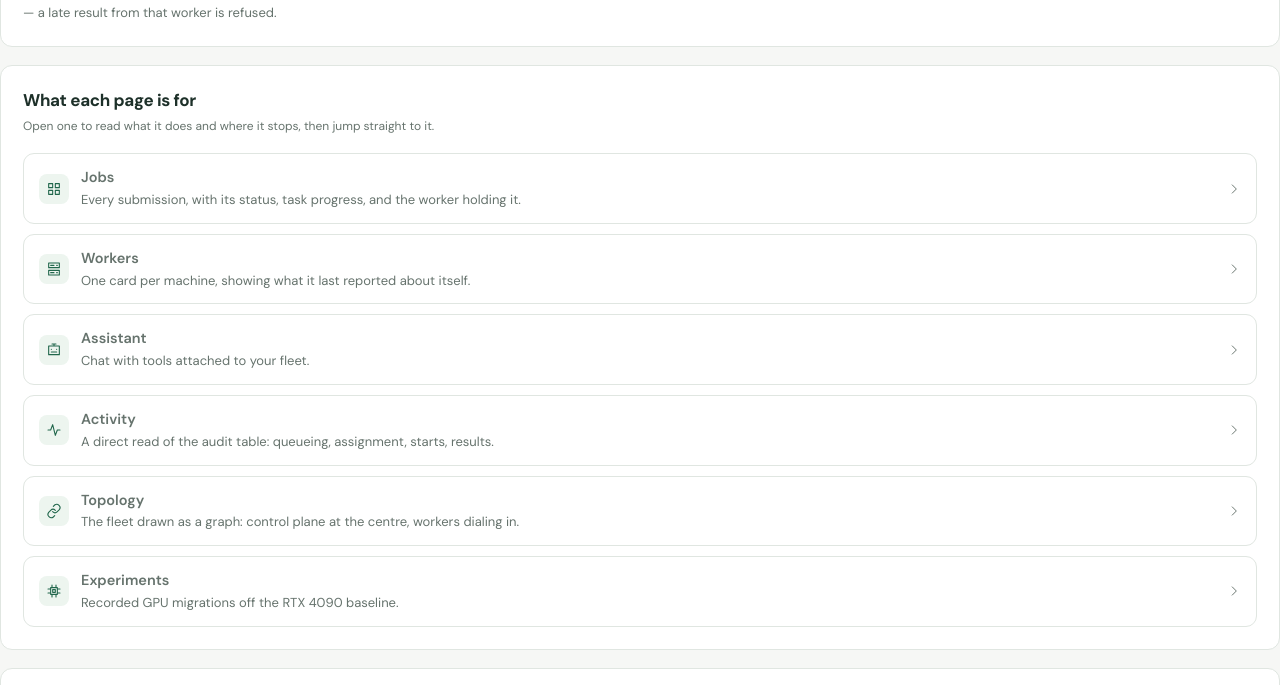
Test: Guide › states the limit alongside what a page can do
This screenshot has width=1280, height=685.
(page scrolled)
What coordinates should you click on to do the following:
click the heading "Assistant"
I would click on:
 (114, 338)
Its box is [39,329,1241,369].
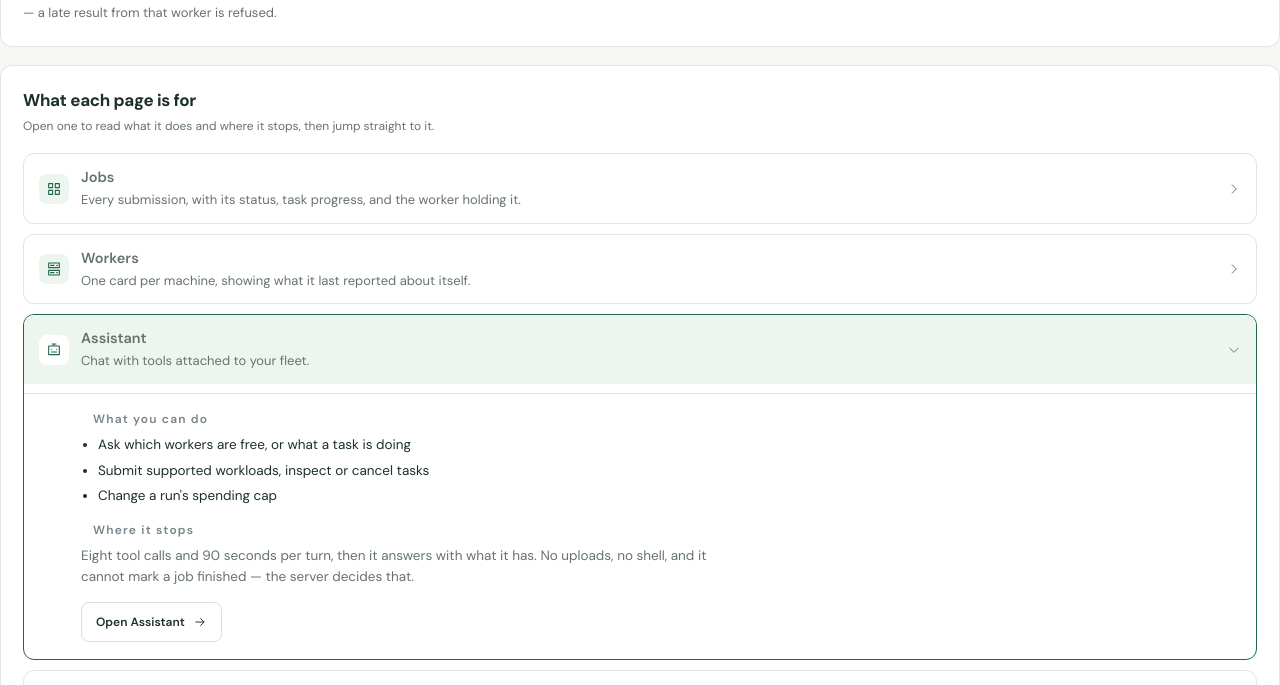
Now the text "Eight tool calls and 90 seconds per turn" is shown, box [81,547,706,585]
